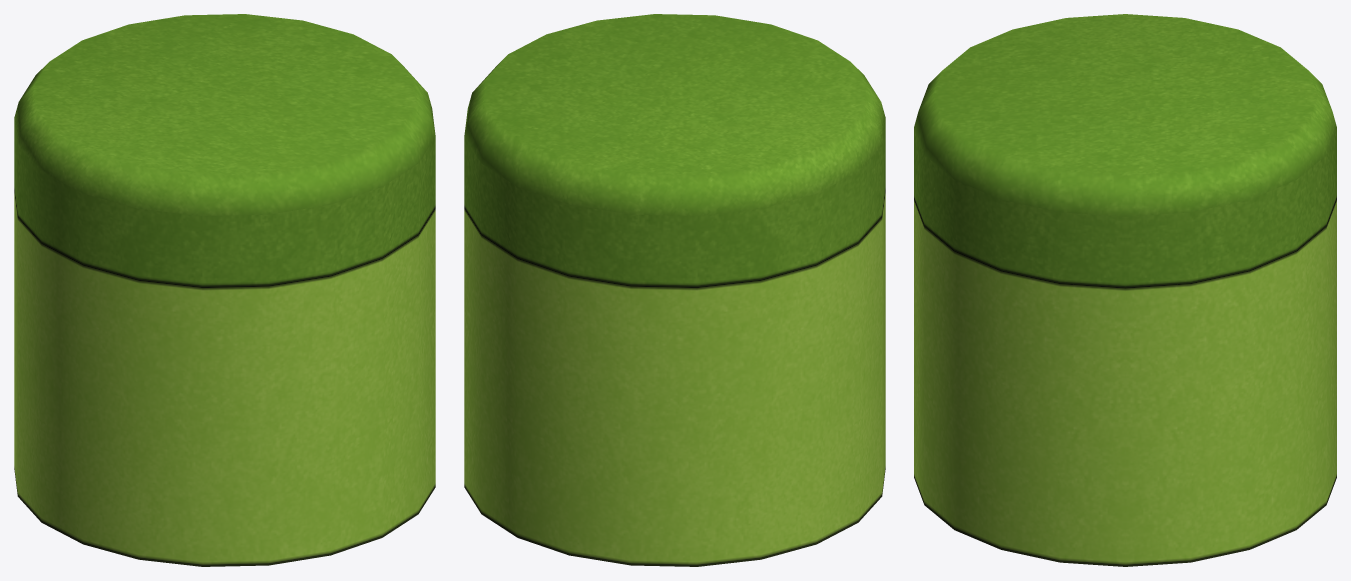
Rendered from ottoman1.fbx.
3 views of the same model, side by side, from view 1: azimuth 30°, elevation 25°; view 2: azimuth 150°, elevation 25°; view 3: azimuth 270°, elevation 25° (orthographic).
Visible parts, largest first — view 1: polySurface1285; view 2: polySurface1285; view 3: polySurface1285.
Boxes of the visible parts, <box> form: polySurface1285: <box>14,14,435,566</box>; polySurface1285: <box>464,14,885,566</box>; polySurface1285: <box>914,14,1336,566</box>.
Bounding box in the file's own units: 0.4524 × 0.4514 × 0.4524.
